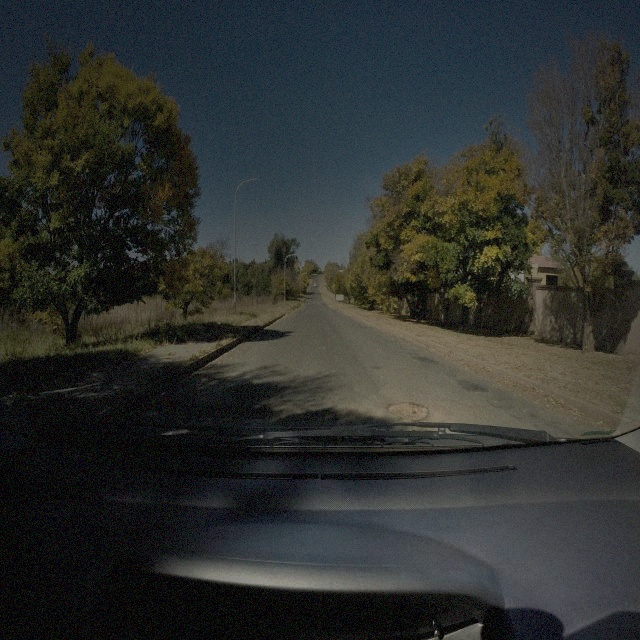pothole: (386, 399, 431, 423)
